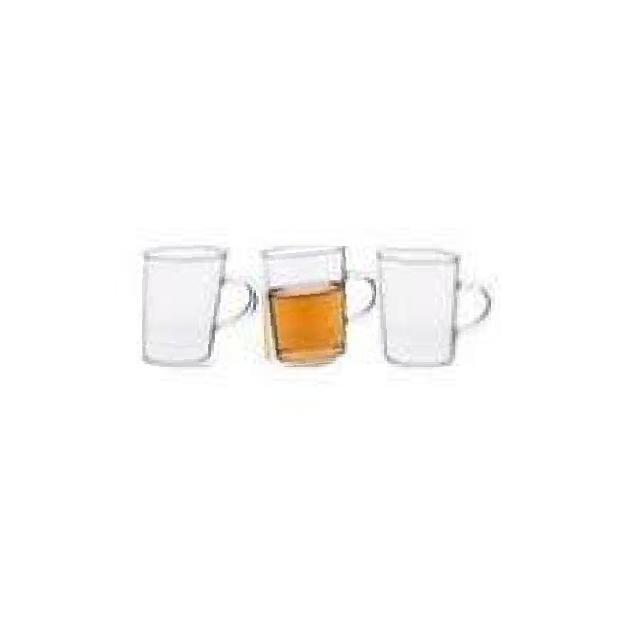Glass: (258, 246, 376, 368), (142, 244, 258, 367), (375, 244, 491, 366)
